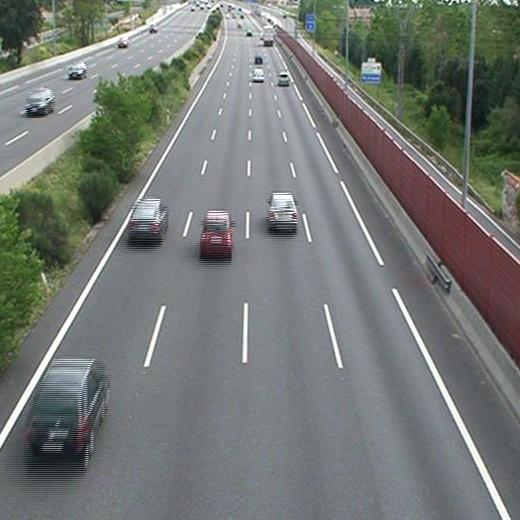car: (26, 358, 105, 444), (200, 210, 231, 253), (129, 200, 166, 236), (268, 193, 297, 231), (277, 73, 289, 87), (252, 69, 264, 82), (254, 54, 263, 63)
truck: (263, 24, 274, 45)
